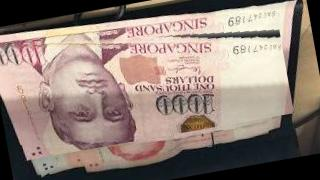1000SingaporeDollar: (0, 0, 294, 163)
